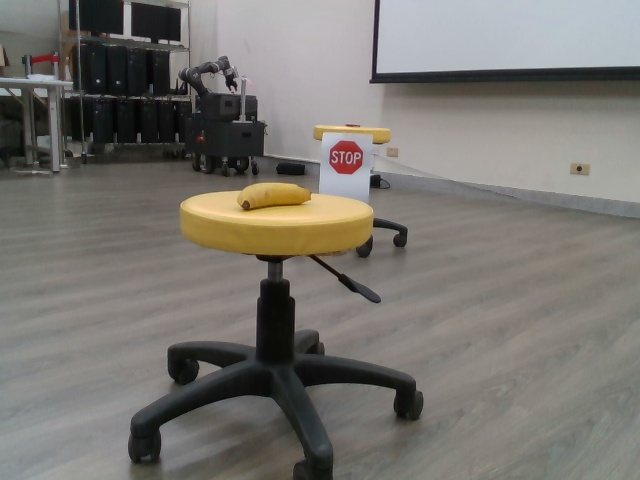banana: (237, 179, 316, 212)
stop: (326, 138, 365, 178)
